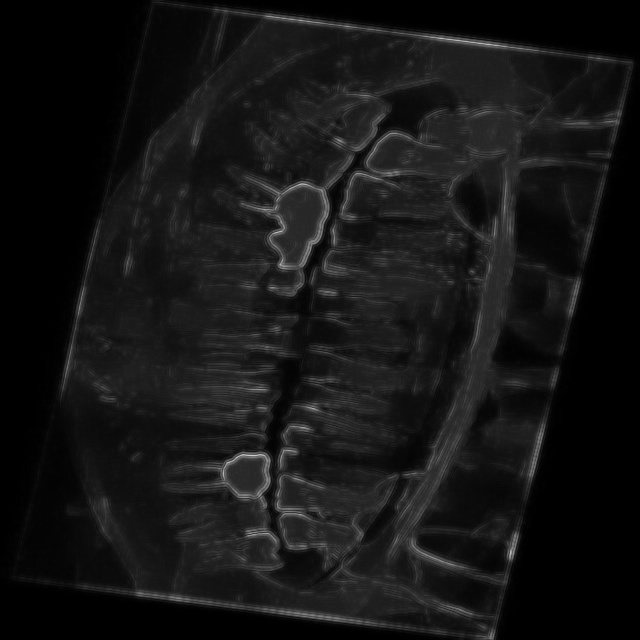Class 1- complete endodontic treatment: (195, 158, 304, 226), (147, 444, 247, 516)
cavity: (179, 214, 285, 272)
